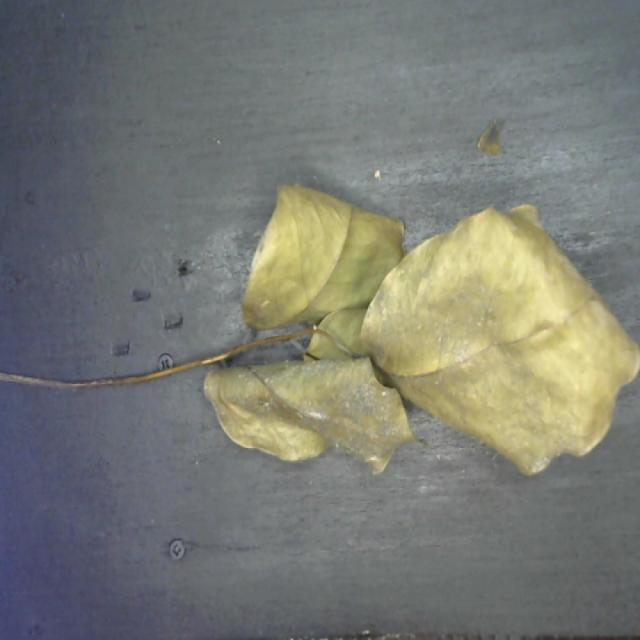biodegradable: (189, 167, 640, 484)
